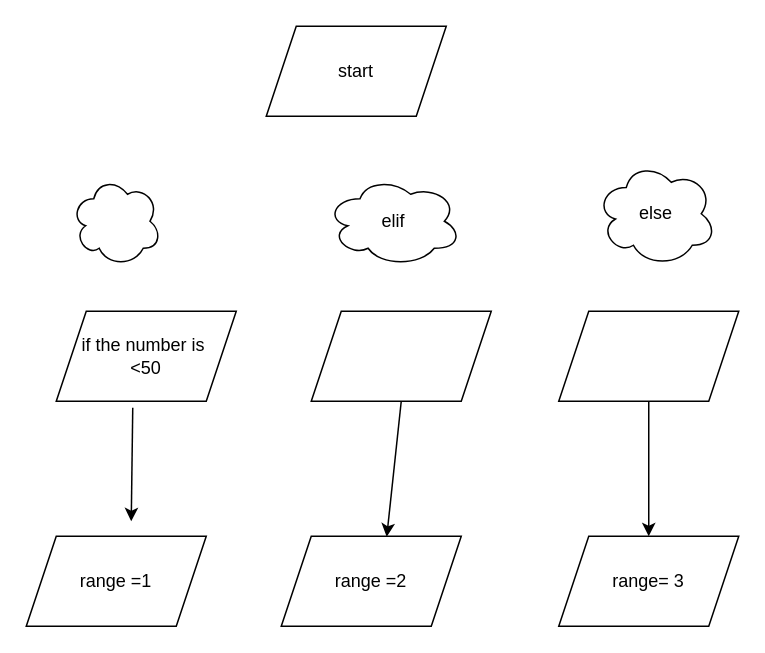
Some shapes in this 765 by 653 pixel diagram are drawn without their labels. Each missing label, with the centre of its shape:
if: (115,220)
if the # is 50<= & is also 100<: (400,355)
if the # is anyhting higher than 100: (648,355)
